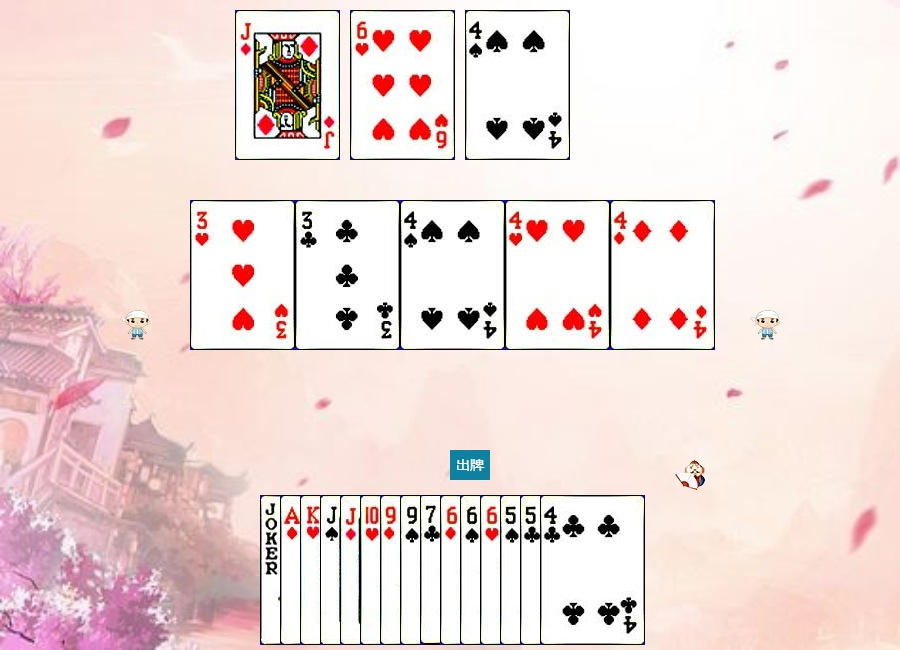10~3: (360, 495, 465, 645)
11~1: (235, 10, 340, 160), (340, 495, 445, 645)
11~4: (320, 495, 425, 645)
13~3: (300, 495, 405, 645)
14~1: (280, 495, 385, 645)
17~3: (260, 495, 365, 645)
3~2: (295, 200, 400, 350)
3~3: (190, 200, 295, 350)
4~1: (610, 200, 715, 350)
4~2: (540, 495, 645, 645)
4~3: (505, 200, 610, 350)
4~4: (465, 10, 570, 160), (400, 200, 505, 350)
5~2: (520, 495, 625, 645)
5~4: (500, 495, 605, 645)
6~1: (440, 495, 545, 645)
6~3: (350, 10, 455, 160), (480, 495, 585, 645)
6~4: (460, 495, 565, 645)
7~2: (420, 495, 525, 645)
9~1: (380, 495, 485, 645)
9~4: (400, 495, 505, 645)
